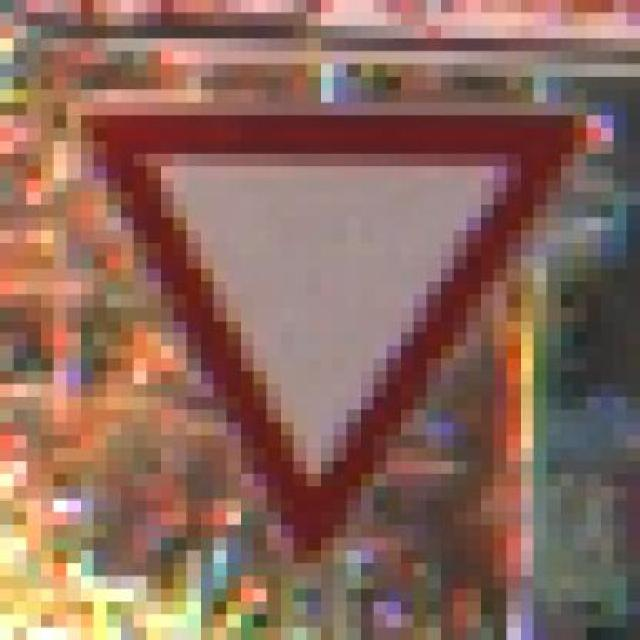Give Way: (53, 89, 613, 602)
